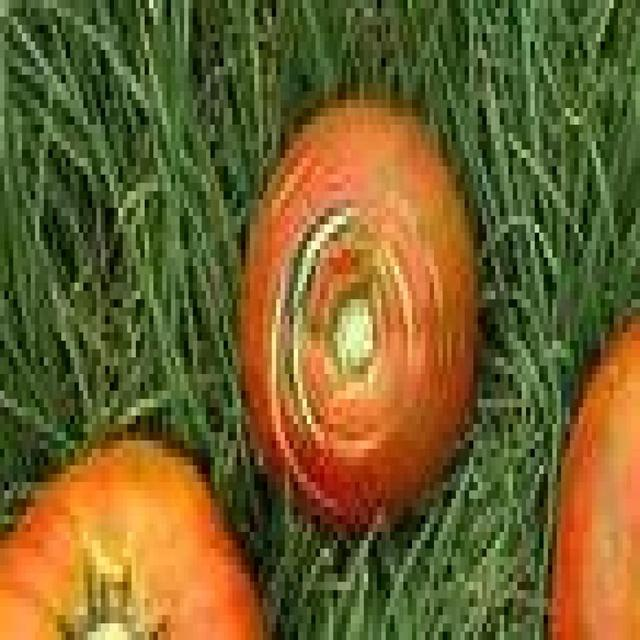Cracking Fruit: (65, 84, 228, 379)
